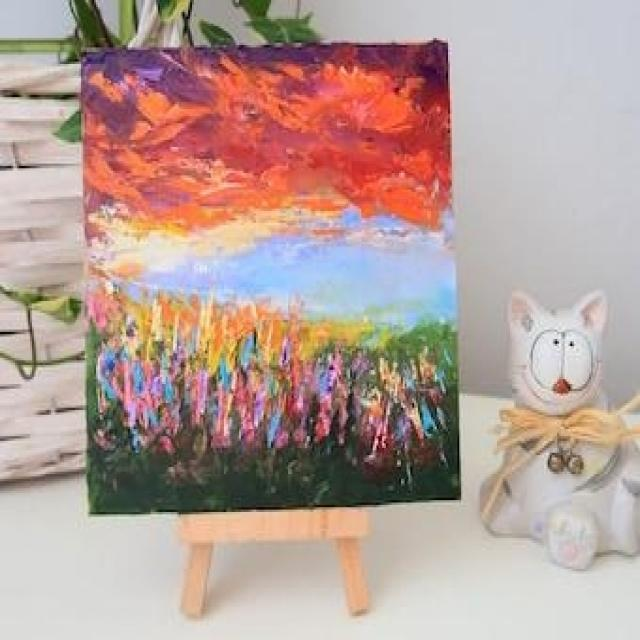painting: (74, 40, 459, 516)
